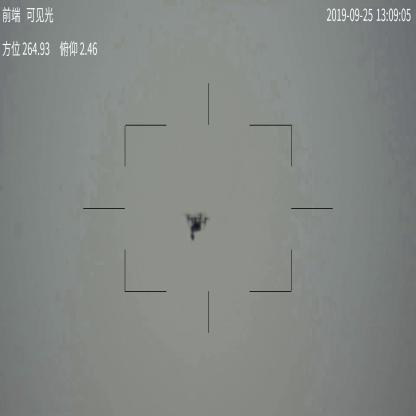uav: (185, 209, 209, 240)
